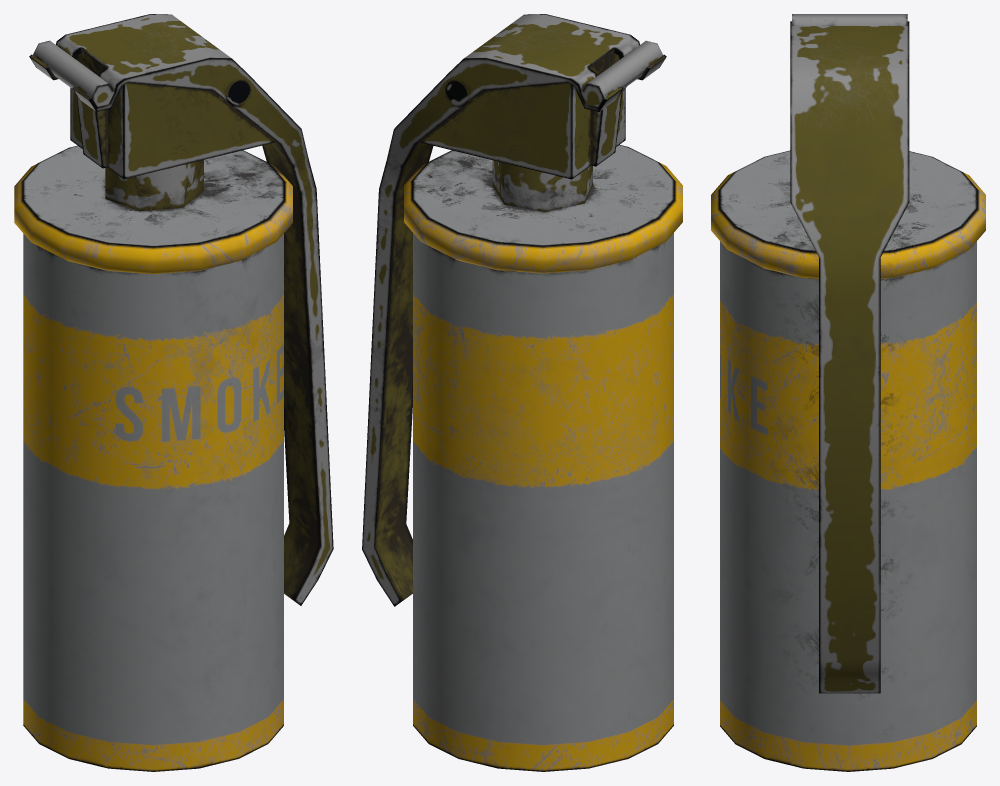
The model's file is GrenadeSmoke_noPin.fbx.
The picture shows the model from 3 angles, left to right: view 1: azimuth 30°, elevation 25°; view 2: azimuth 150°, elevation 25°; view 3: azimuth 270°, elevation 25°; orthographic projection.
Visible parts, largest first — view 1: GrenadeSmoke; view 2: GrenadeSmoke; view 3: GrenadeSmoke.
Part boxes in pixels (x1,y1,x2,y2): GrenadeSmoke: [14, 14, 333, 771]; GrenadeSmoke: [362, 14, 682, 771]; GrenadeSmoke: [711, 14, 985, 771].
Size of the model in its own units: 8.55 by 19.13 by 7.18.
